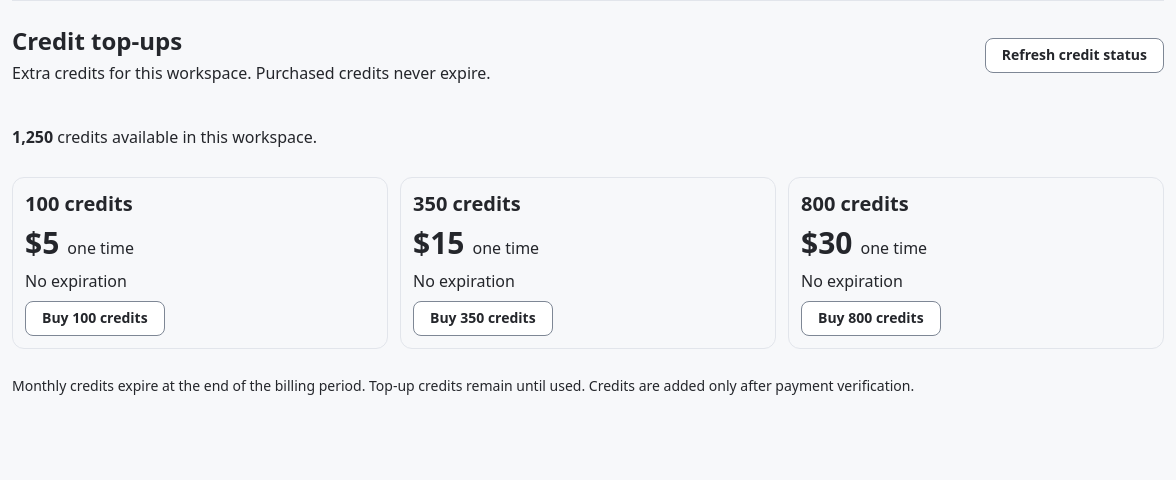
Test: account credit packs › does not navigate to a hosted URL for another account
Click the button "Buy 800 credits" at (871, 319), box [801, 301, 941, 336]
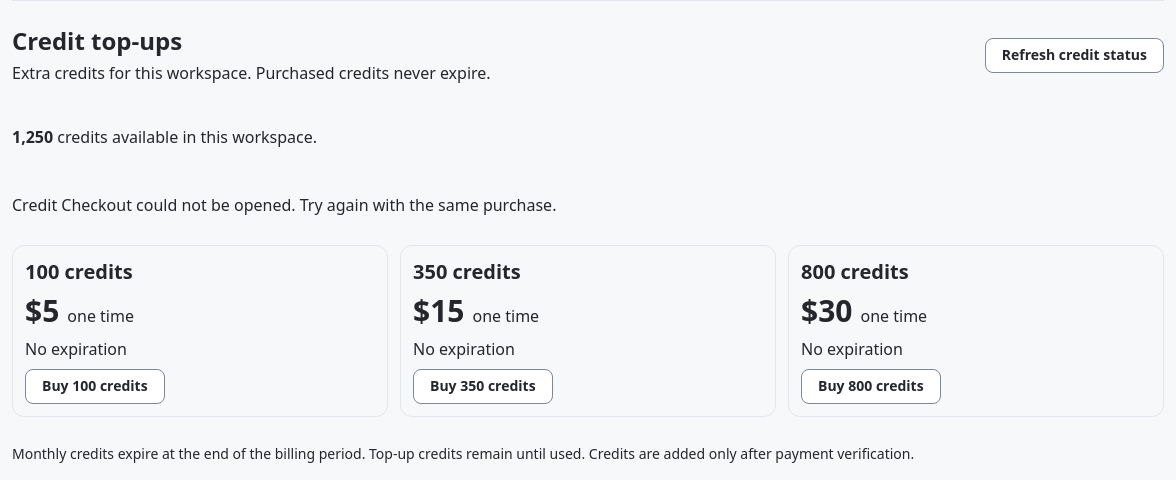
Check: the message "Credit Checkout could not be opened. Try again with the same purchase." is shown, box [12, 194, 556, 216]
